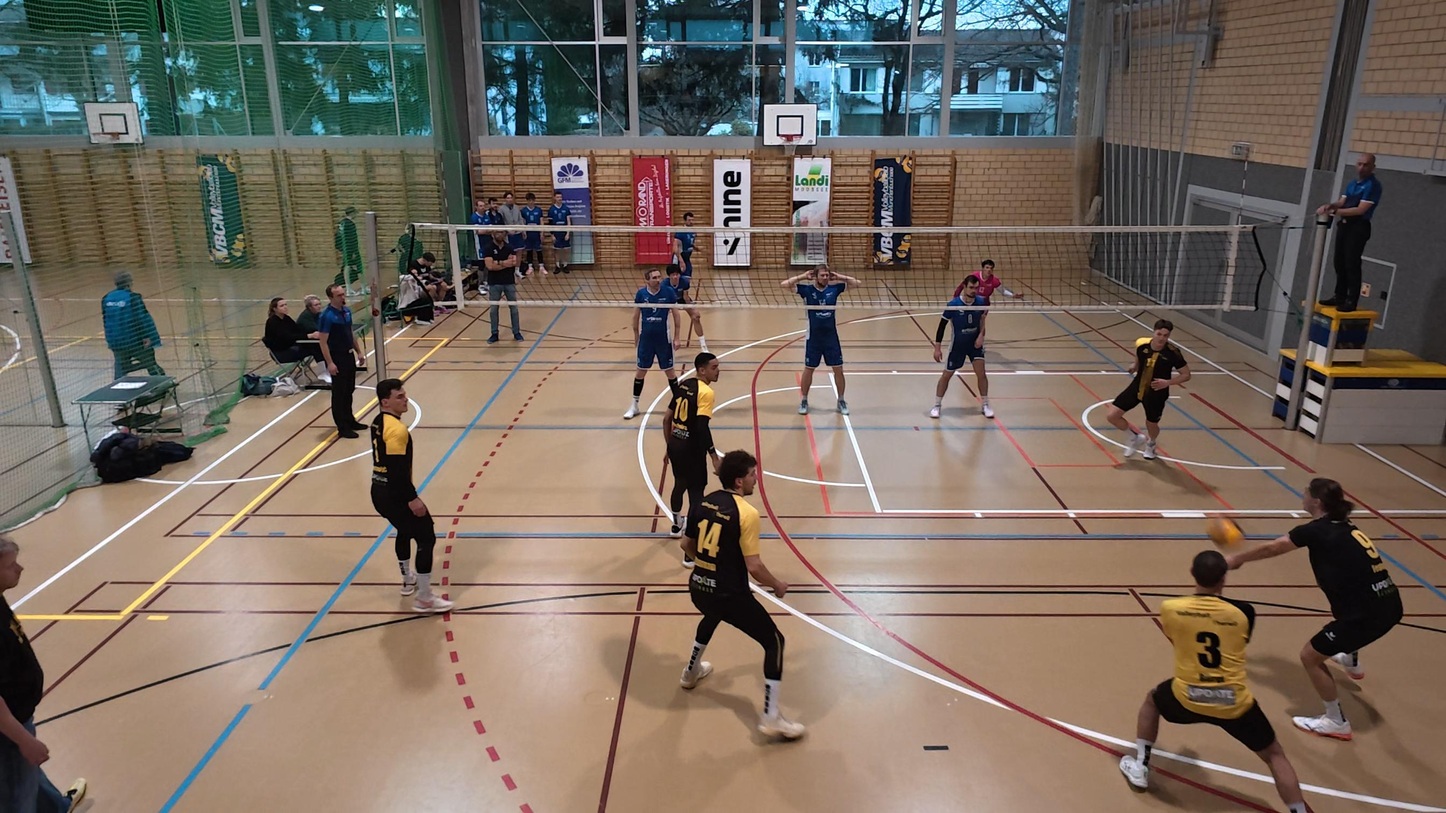Player: (1119, 550, 1310, 812), (680, 450, 805, 740), (369, 378, 452, 612), (1105, 319, 1190, 461), (661, 352, 722, 538), (784, 266, 856, 414), (930, 274, 994, 419), (625, 267, 681, 419), (668, 210, 707, 353)
Receive: (1217, 476, 1407, 740)
ball: (1206, 515, 1245, 548)
